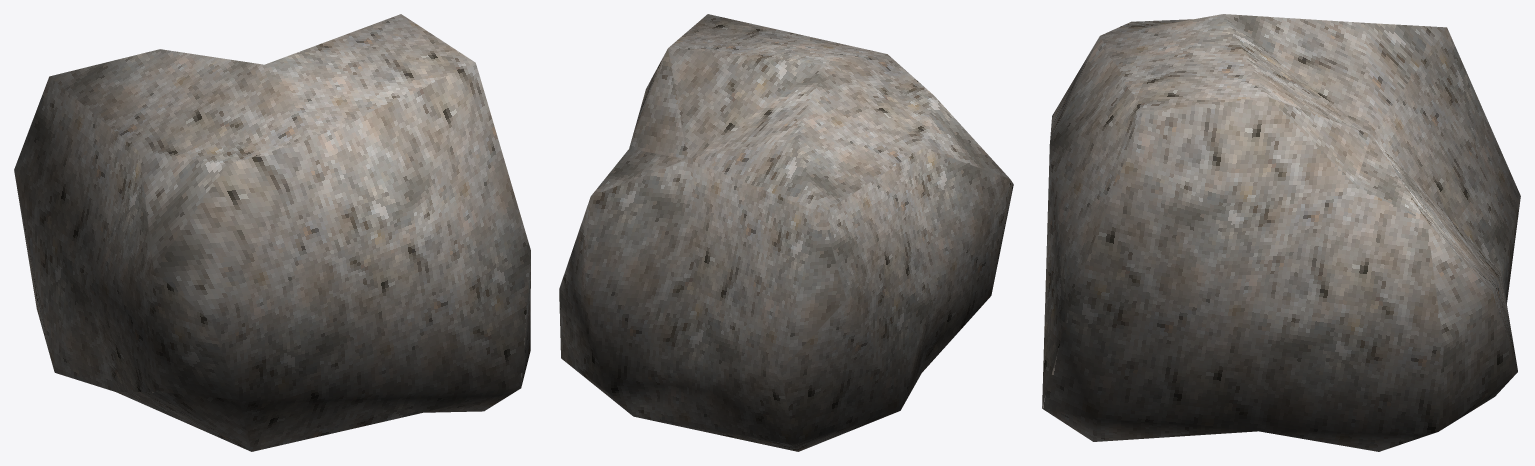
File: rock_6.glb
The picture shows the model from 3 angles, left to right: view 1: azimuth 30°, elevation 25°; view 2: azimuth 150°, elevation 25°; view 3: azimuth 270°, elevation 25°; orthographic projection. The views are drawn at different scales.
Parts seen in each view (by area): view 1: rock 6; view 2: rock 6; view 3: rock 6.
Boxes of the visible parts, x1,y1,x2,y2 form: rock 6: (14,14,530,451); rock 6: (559,14,1013,451); rock 6: (1042,14,1520,451).
Bounding box in the file's own units: 4.44 × 4.08 × 4.85.
1 material, 1 textured.
